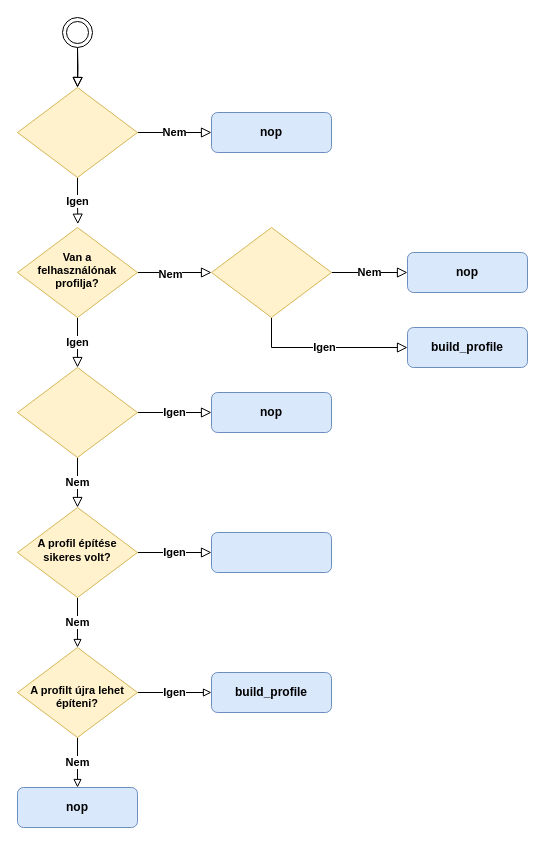
The diagram is 545 pixels wide and 845 high, and some of its shapes have lost their labels. Each missing label, with the centre of its shape:
"A felhasználó létezik?" belongs at (x=77, y=132).
"A profil építés folyamatban van?" belongs at (x=77, y=412).
"Lehet profilt építeni?" belongs at (x=271, y=272).
"verify" belongs at (x=271, y=552).
